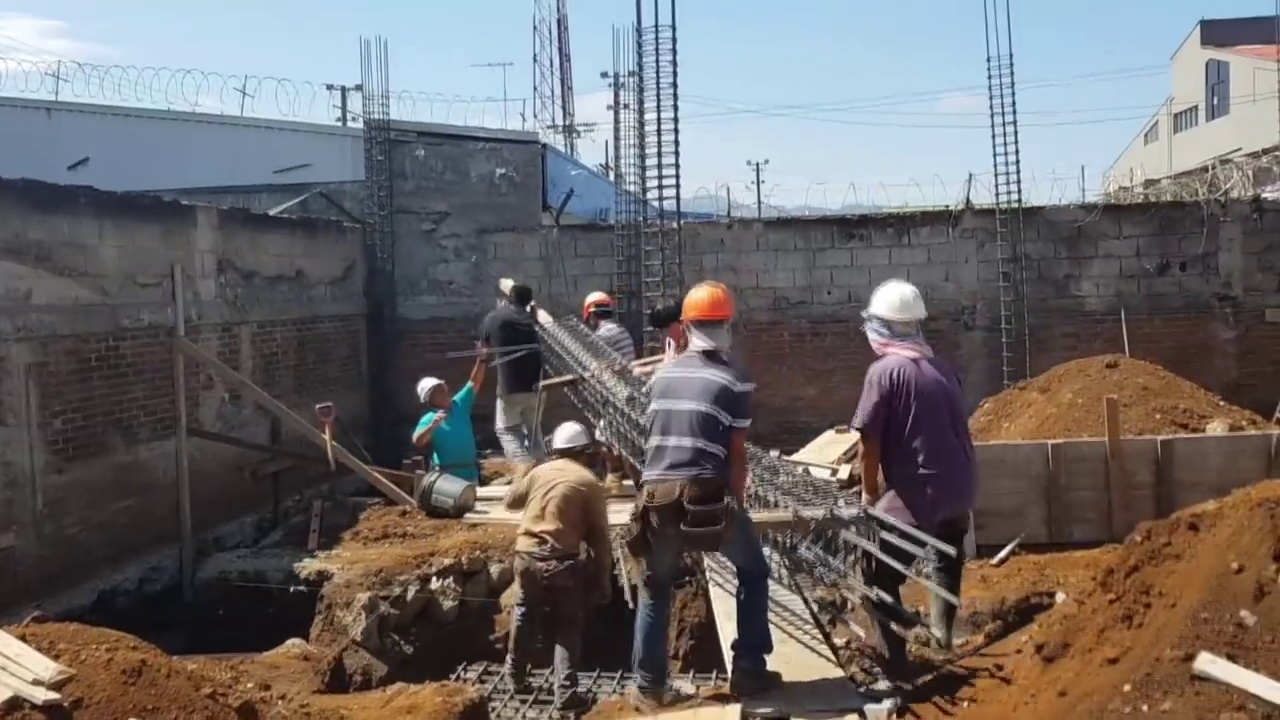helmet: (862, 279, 930, 327), (678, 283, 739, 327), (550, 420, 591, 450), (581, 295, 615, 321), (417, 377, 445, 404)
helmet-off: (651, 295, 684, 345), (506, 285, 535, 310)
helmet-on: (860, 278, 930, 365), (678, 284, 738, 359), (550, 420, 591, 460), (416, 377, 450, 411), (581, 295, 614, 328)
person: (631, 283, 787, 704), (851, 277, 975, 662), (501, 418, 614, 704), (479, 283, 544, 485), (411, 336, 488, 485), (580, 293, 635, 492)
